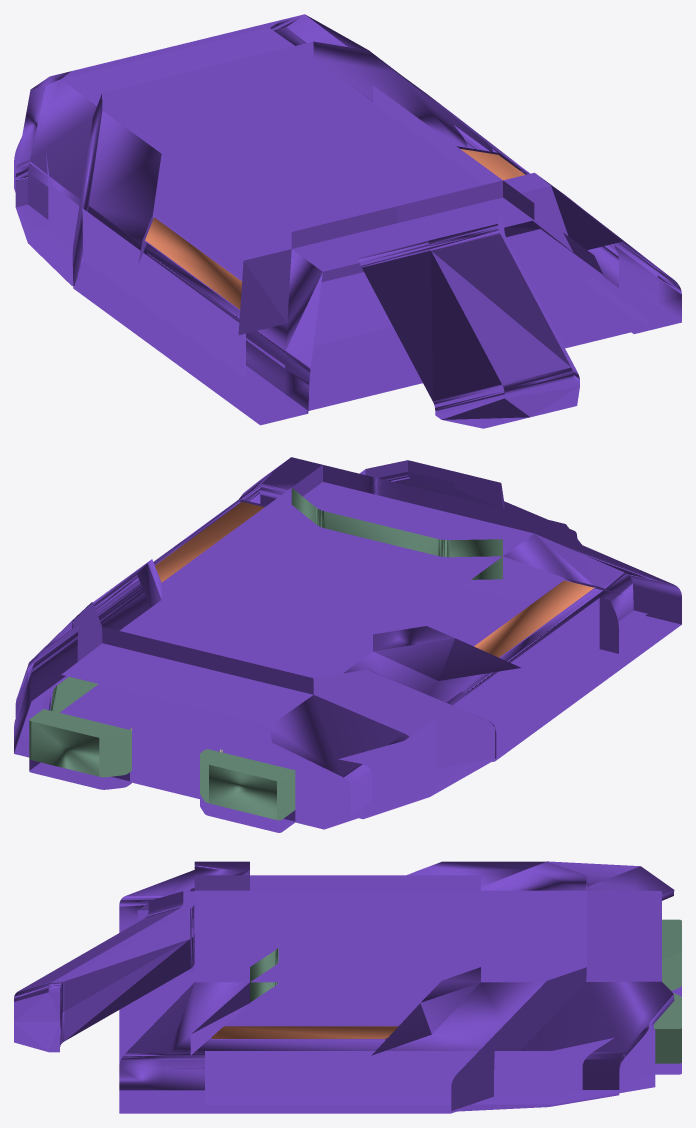
File: ht_fp_building_003.glb
3 views of the same model, one above another, from view 1: azimuth 30°, elevation 25°; view 2: azimuth 150°, elevation 25°; view 3: azimuth 270°, elevation 25° (orthographic). The views are drawn at different scales.
Size of the model in its own units: 46.55 by 11.93 by 71.51.
